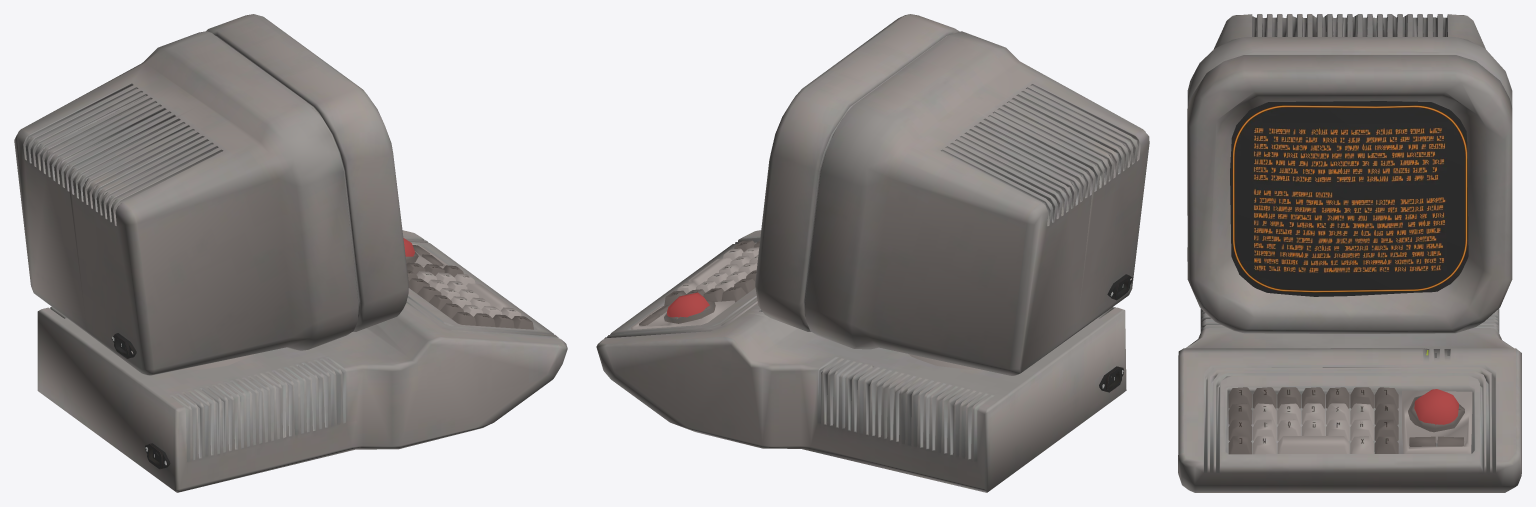
Rendered from retro_computer.glb.
3 views of the same model, side by side, from view 1: azimuth 30°, elevation 25°; view 2: azimuth 150°, elevation 25°; view 3: azimuth 270°, elevation 25° (orthographic). The views are drawn at different scales.
Parts seen in each view (by area): view 1: Part2, Part1; view 2: Part2, Part1; view 3: Part2, Part1.
Boxes of the visible parts, x1,y1,x2,y2 form: Part2: [14, 14, 567, 492]; Part1: [111, 238, 533, 469]; Part2: [596, 14, 1149, 492]; Part1: [630, 240, 1132, 392]; Part2: [1178, 14, 1521, 492]; Part1: [1228, 101, 1472, 454].
Bounding box in the file's own units: 2 × 1.54 × 1.32.
Materials: 2 (2 with a texture image).
